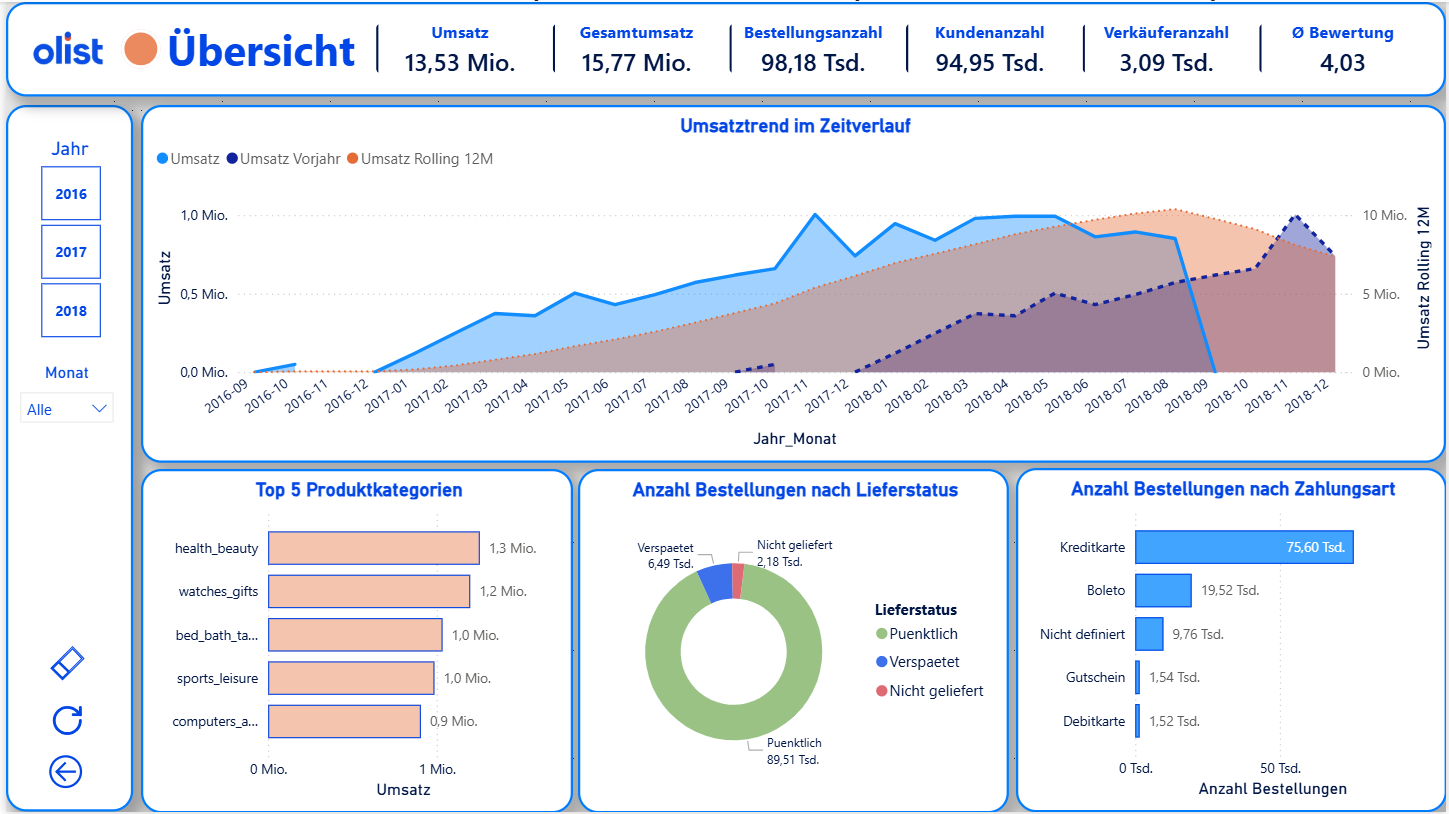

The dashboard page shown, as its layout file describes it:
{"tool":"powerbi","page":{"name":"Übersicht_1.1","canvas":[1280,720],"ordinal":1},"visuals":[{"type":"shape","box":[0,91.6,113,627.9],"z":0},{"type":"shape","box":[0,0,1280,83.7],"z":1000},{"type":"image","box":[23.2,19.9,64,43],"z":2000},{"type":"shape","box":[102.6,24.3,35.3,35.3],"z":3000},{"type":"areaChart","title":"Umsatztrend im Zeitverlauf","fields":{"Category":["Dim_Datum.Jahr_Monat"],"Y":["_Measures.Umsatz","_Measures.Umsatz Vorjahr"],"Y2":["_Measures.Umsatz Rolling 12M"]},"box":[120.3,91.6,1159.7,317.8],"z":4000},{"type":"cardVisual","title":"Umsatz","fields":{"Data":["_Measures.Umsatz","_Measures.Gesamtumsatz","_Measures.Anzahl Bestellungen","_Measures.Anzahl Kunden","_Measures.Anzahl Verkäufer","_Measures.AVG Bewertung"]},"box":[311.7,5.6,968.3,72.3],"z":5000},{"type":"barChart","title":"Top 5 Produktkategorien","fields":{"Category":["Dim_Produkte.product_category_name_english"],"Y":["_Measures.Umsatz"]},"box":[119.7,414.8,384,305.8],"z":6000},{"type":"donutChart","fields":{"Category":["Fact_OrderItems.Lieferstatus"],"Y":["_Measures.Anzahl Bestellungen"]},"box":[508.4,414.8,382.8,305.8],"z":7000},{"type":"actionButton","box":[32.5,663.7,43.9,40.3],"z":8000},{"type":"slicer","title":"Jahr","fields":{"Values":["Dim_Datum.Jahr"]},"box":[5,120,103,185],"z":9000},{"type":"slicer","title":"Monat","fields":{"Values":["Dim_Datum.Monat"]},"box":[2.7,320.9,103.1,78.2],"z":10000},{"type":"actionButton","box":[34.5,567.7,40,40],"z":11000},{"type":"barChart","fields":{"Category":["Fact_OrderItems.Zahlungsart"],"Y":["_Measures.Anzahl Bestellungen"]},"box":[897.4,414.6,382.6,306.1],"z":12000},{"type":"image","box":[39.7,623.4,29.6,30.8],"z":13000}]}

Visuals, with their boxes in screenshot pixels (x1, y1, x2, y2), scaled from the page's 1280x720 canvas onto the 1449x814 screenshot:
shape: crop(0, 104, 128, 813)
shape: crop(0, 0, 1448, 95)
image: crop(26, 22, 99, 71)
shape: crop(116, 27, 156, 67)
"Umsatztrend im Zeitverlauf" areaChart: crop(136, 104, 1448, 463)
"Umsatz" cardVisual: crop(353, 6, 1448, 88)
"Top 5 Produktkategorien" barChart: crop(136, 469, 570, 813)
donutChart - Fact_OrderItems.Lieferstatus x _Measures.Anzahl Bestellungen: crop(576, 469, 1009, 813)
actionButton: crop(37, 750, 86, 796)
"Jahr" slicer: crop(6, 136, 122, 345)
"Monat" slicer: crop(3, 363, 120, 451)
actionButton: crop(39, 642, 84, 687)
barChart - Fact_OrderItems.Zahlungsart x _Measures.Anzahl Bestellungen: crop(1016, 469, 1448, 813)
image: crop(45, 705, 78, 740)
